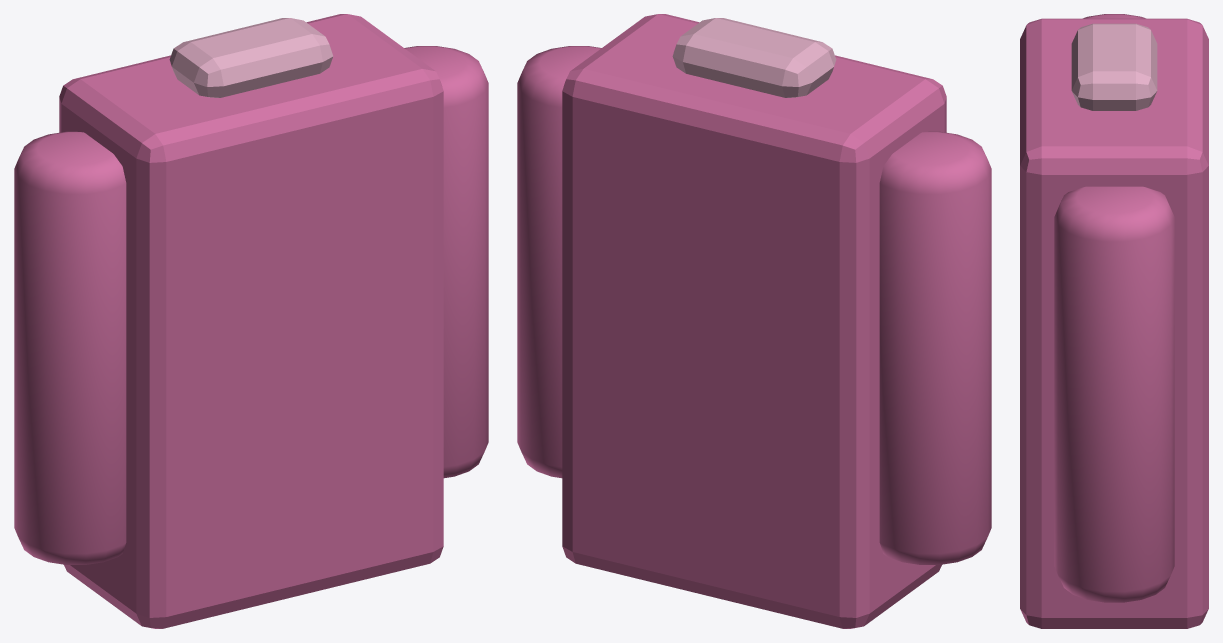
Rendered from VM-DAM-FS18.glb.
3 views of the same model, side by side, from view 1: azimuth 30°, elevation 25°; view 2: azimuth 150°, elevation 25°; view 3: azimuth 270°, elevation 25° (orthographic). The views are drawn at different scales.
Visible parts, largest first — view 1: Prenda Mujer Liso Corto; view 2: Prenda Mujer Liso Corto; view 3: Prenda Mujer Liso Corto.
Part boxes in pixels (box(x1,y1,x2,y2)): Prenda Mujer Liso Corto: box(14, 14, 488, 628); Prenda Mujer Liso Corto: box(517, 14, 991, 628); Prenda Mujer Liso Corto: box(1020, 14, 1208, 628).
Bounding box in the file's own units: 0.5859 × 0.6517 × 0.2156.
